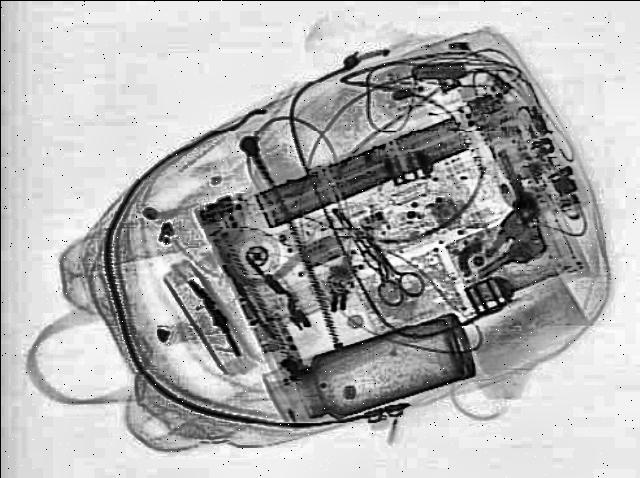Scissors: (346, 227, 428, 304)
